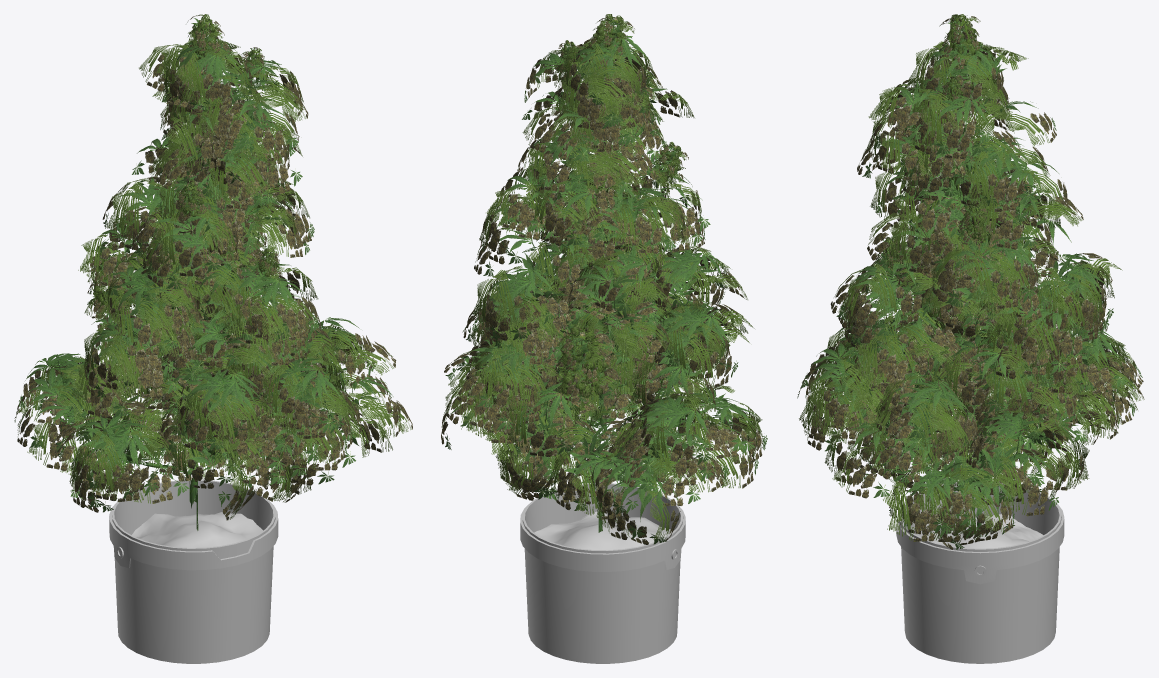
Rendered from uploads_files_4483615_sativa_plant_fixed.fbx.
3 renders of one model, left to right at view 1: azimuth 30°, elevation 25°; view 2: azimuth 150°, elevation 25°; view 3: azimuth 270°, elevation 25°, orthographic.
Parts seen in each view (by area): view 1: sativa_plant, bucket; view 2: sativa_plant, bucket; view 3: sativa_plant, bucket.
Boxes of the visible parts, <box> form: sativa_plant: <box>14,14,412,530</box>; bucket: <box>109,480,278,663</box>; sativa_plant: <box>441,14,767,544</box>; bucket: <box>520,483,685,663</box>; sativa_plant: <box>797,14,1144,549</box>; bucket: <box>896,482,1064,663</box>.
Size of the model in its own units: 80.38 by 154 by 78.13.
